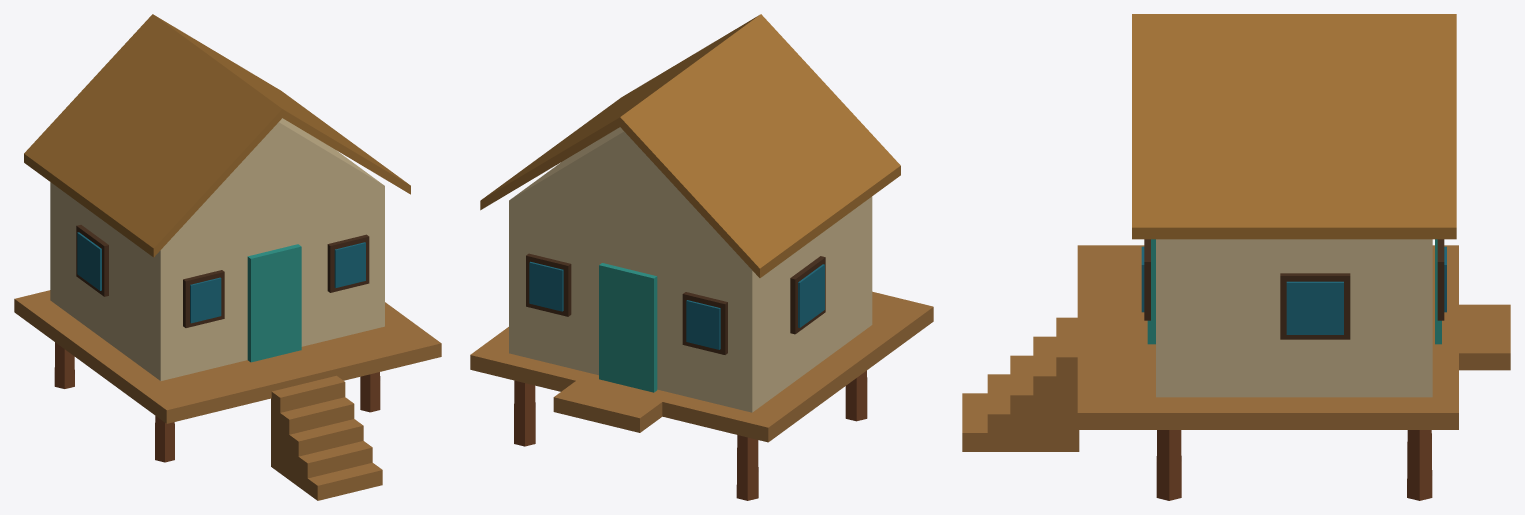
The model's file is Tropical_StiltHut_Simple.glb.
The picture shows the model from 3 angles, left to right: view 1: azimuth 30°, elevation 25°; view 2: azimuth 150°, elevation 25°; view 3: azimuth 270°, elevation 25°; orthographic projection. The views are drawn at different scales.
Parts seen in each view (by area): view 1: Tropical_StiltHut_Simple; view 2: Tropical_StiltHut_Simple; view 3: Tropical_StiltHut_Simple.
Part boxes in pixels (box(x1,y1,x2,y2)): Tropical_StiltHut_Simple: box(14, 14, 441, 500); Tropical_StiltHut_Simple: box(470, 14, 933, 500); Tropical_StiltHut_Simple: box(962, 14, 1510, 500).
Size of the model in its own units: 3.8 by 4.42 by 5.25.
